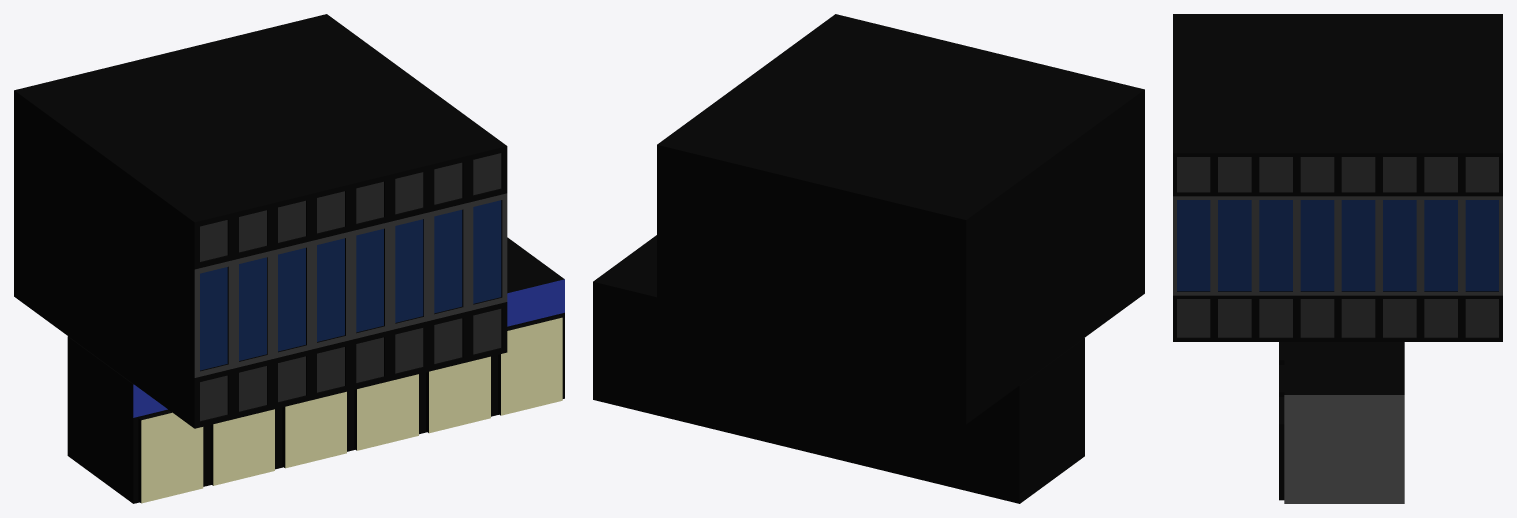
Rendered from edificioExtra.fbx.
3 renders of one model, left to right at view 1: azimuth 30°, elevation 25°; view 2: azimuth 150°, elevation 25°; view 3: azimuth 270°, elevation 25°, orthographic. The views are drawn at different scales.
Visible parts, largest first — view 1: Cube, Cube.001; view 2: Cube, Cube.001; view 3: Cube, Cube.001.
Boxes of the visible parts, x1,y1,x2,y2 form: Cube: (14,14,507,428); Cube.001: (67,237,564,503); Cube: (657,14,1144,424); Cube.001: (593,235,1084,503); Cube: (1173,14,1502,341); Cube.001: (1279,342,1404,503).
Size of the model in its own units: 11460 by 8276 by 8307.
